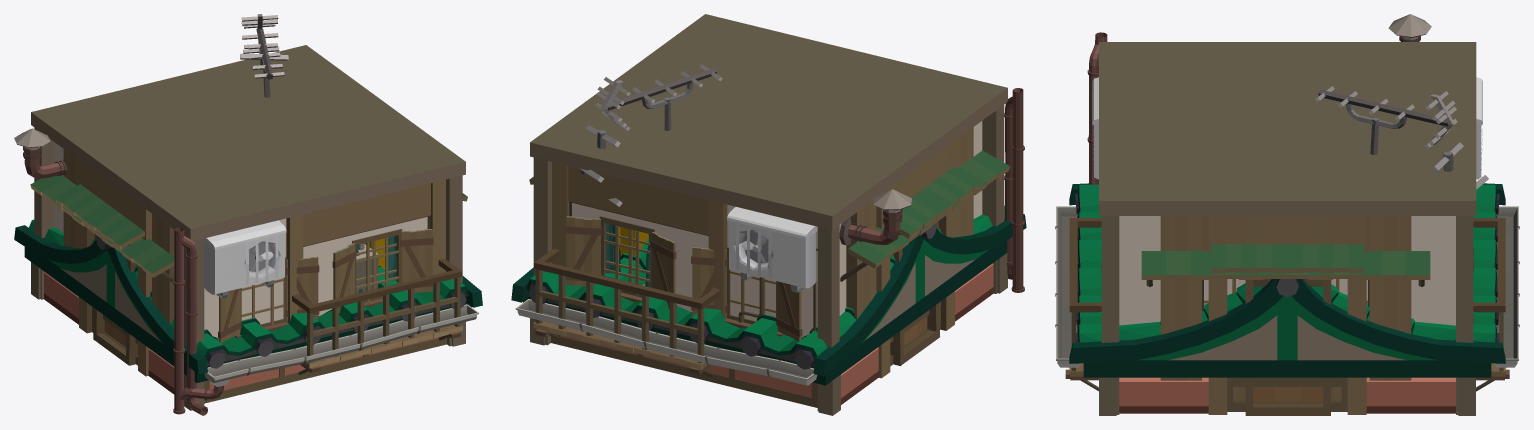
3 views of the same model, side by side, from view 1: azimuth 30°, elevation 25°; view 2: azimuth 150°, elevation 25°; view 3: azimuth 270°, elevation 25° (orthographic). The views are drawn at different scales.
Visible parts, largest first — view 1: midV1, baseDoor, roof.020, antenna; view 2: midV1, baseDoor, roof.020, antenna; view 3: midV1, roof.020, baseDoor, antenna.
Boxes of the visible parts, x1,y1,x2,y2 form: midV1: (30, 45, 467, 414); baseDoor: (14, 128, 465, 415); roof.020: (14, 219, 482, 414); antenna: (240, 14, 288, 97); midV1: (529, 14, 1024, 376); baseDoor: (533, 88, 1023, 411); roof.020: (511, 205, 1026, 415); antenna: (579, 64, 722, 206); midV1: (1065, 32, 1509, 414); roof.020: (1055, 183, 1519, 415); baseDoor: (1087, 14, 1476, 415); antenna: (1315, 86, 1488, 189).
Bounding box in the file's own units: 0.9831 × 0.6595 × 0.9778.
